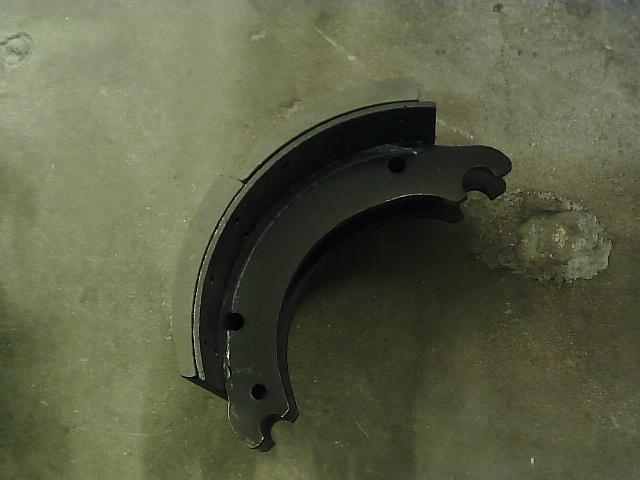brake-shoes: (172, 73, 513, 455)
